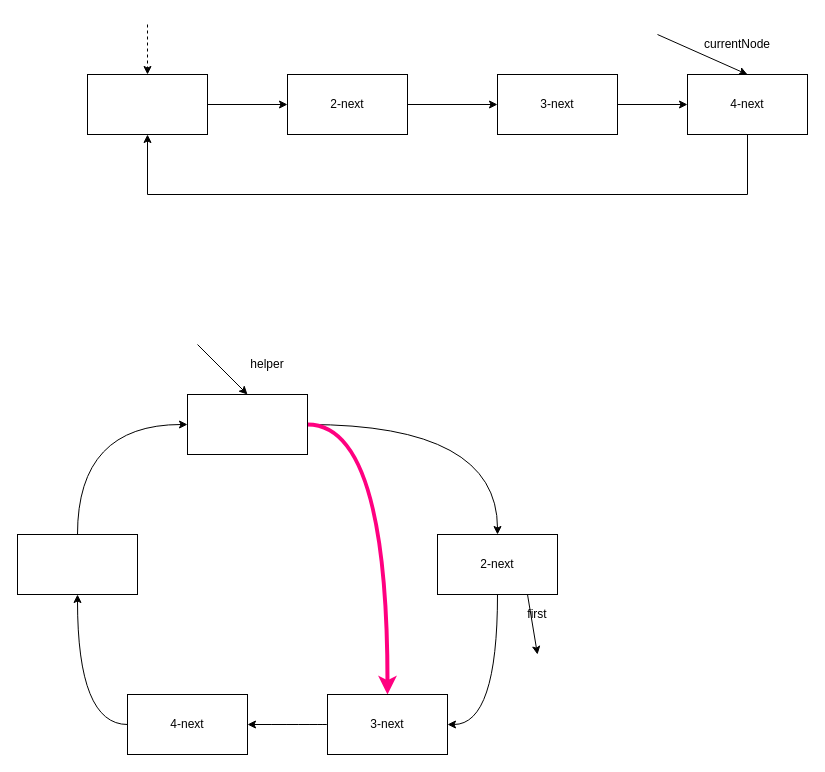
Some shapes in this 825 by 772 pixel diagram are drawn without their labels. The box of each missing label's shape, as (x1, y1, x2, y2) in pixels:
1-first: (86, 74, 208, 134)
1-next: (186, 394, 308, 454)
5-next: (16, 534, 138, 594)
